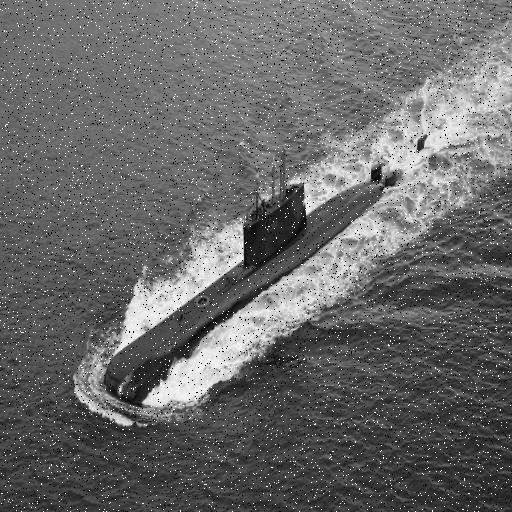submarine: (104, 117, 429, 404)
